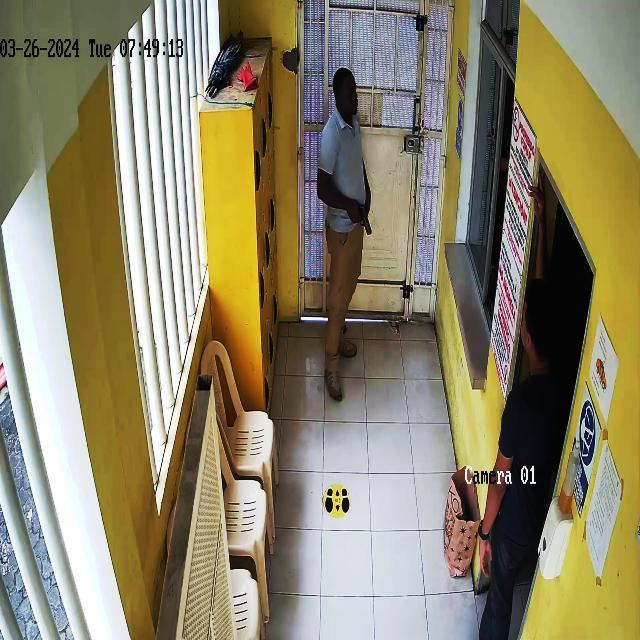Gun: (344, 191, 381, 247)
